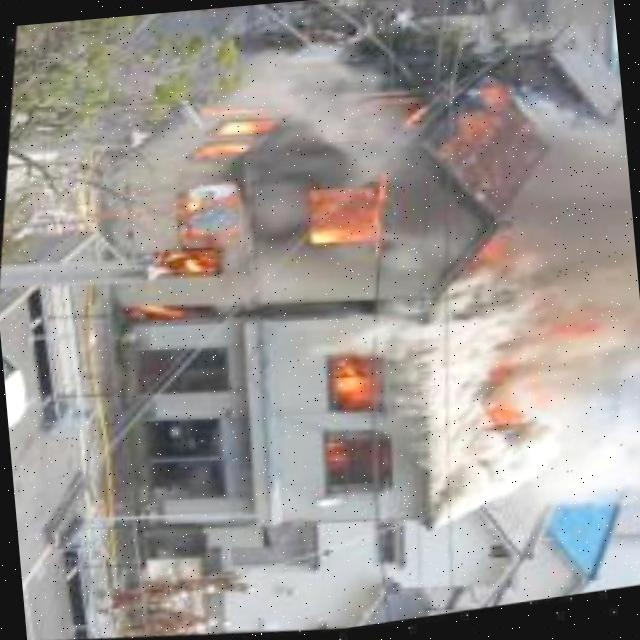fire: (135, 38, 539, 318), (314, 339, 410, 489), (476, 345, 544, 451)
